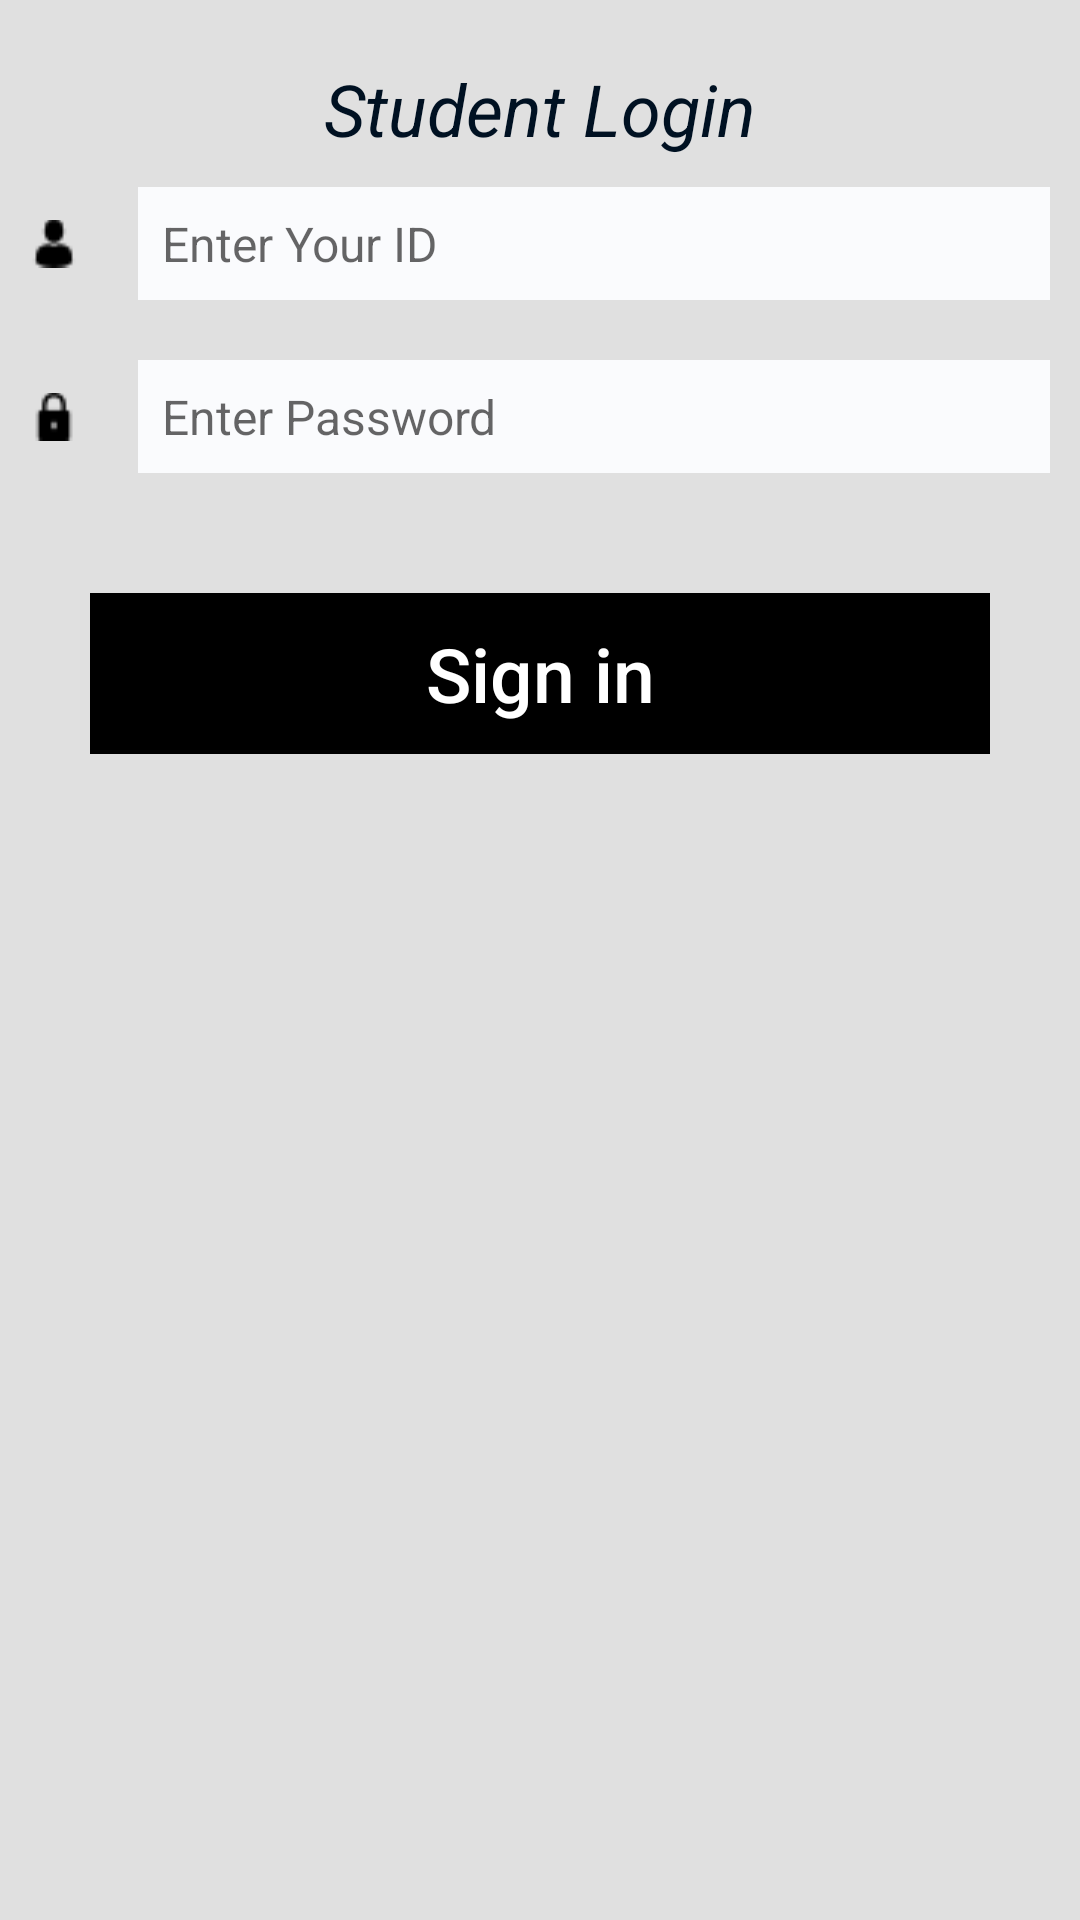

Icon click points for this 1080px×1920px phone screenshot, format point (x, y):
user id: point (54, 244)
